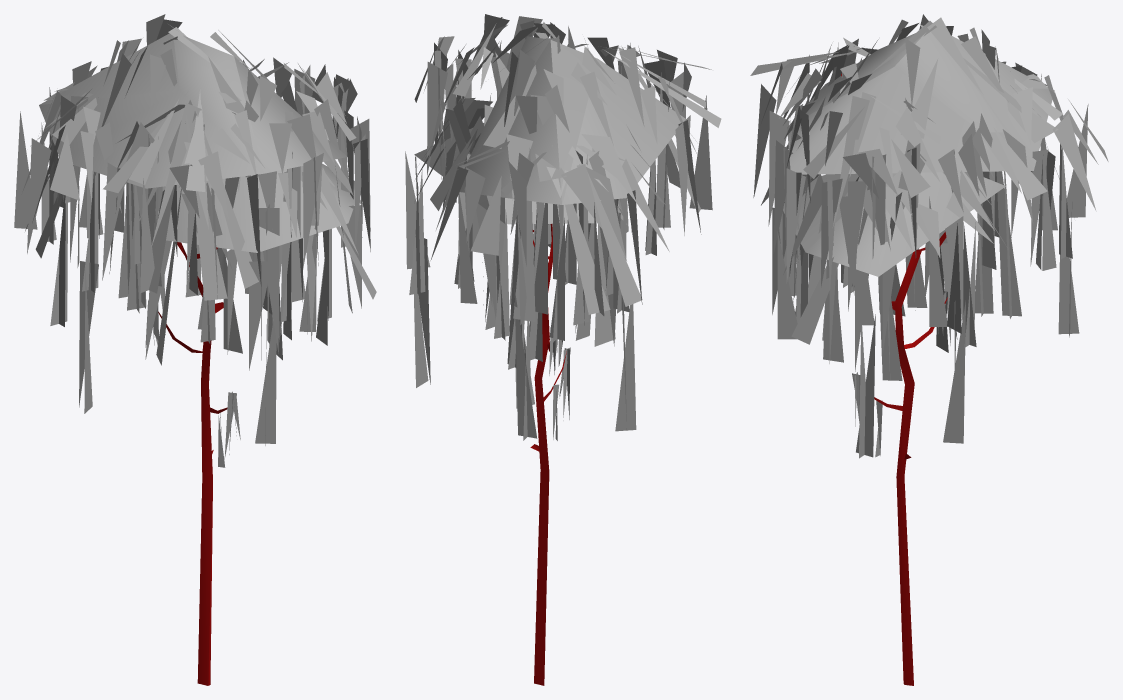
File: env_forest_birch02_lod2.fbx
The picture shows the model from 3 angles, left to right: view 1: azimuth 30°, elevation 25°; view 2: azimuth 150°, elevation 25°; view 3: azimuth 270°, elevation 25°; orthographic projection.
Parts seen in each view (by area): view 1: env_forest_birch02_lod2__submesh0; view 2: env_forest_birch02_lod2__submesh0; view 3: env_forest_birch02_lod2__submesh0.
Part boxes in pixels (x1,y1,x2,y2): env_forest_birch02_lod2__submesh0: (14, 14, 376, 685); env_forest_birch02_lod2__submesh0: (405, 14, 721, 685); env_forest_birch02_lod2__submesh0: (750, 14, 1108, 685).
Bounding box in the file's own units: 64.68 × 139 × 68.98.
